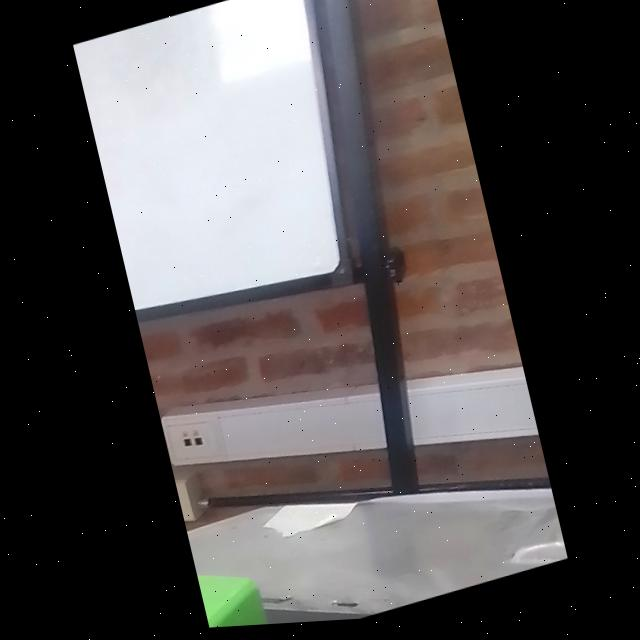greenBox: (190, 526, 288, 631)
